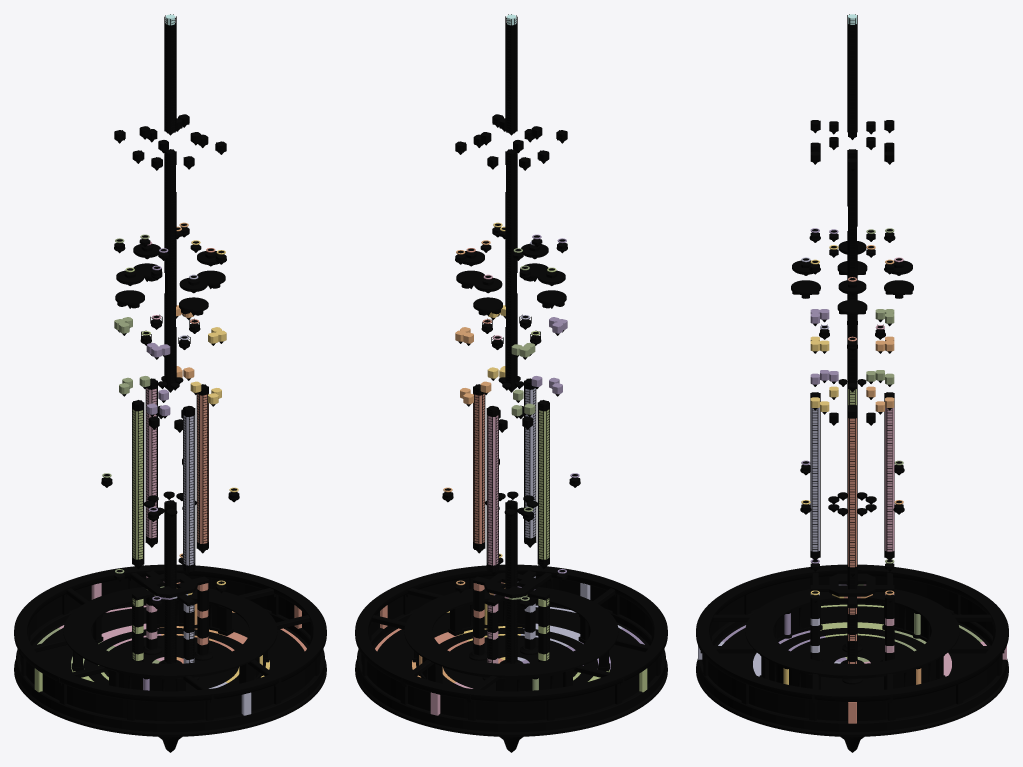
The model's file is TheLadder.glb.
3 views of the same model, side by side, from view 1: azimuth 30°, elevation 25°; view 2: azimuth 150°, elevation 25°; view 3: azimuth 270°, elevation 25° (orthographic).
Visible parts, largest first — view 1: TheLadder; view 2: TheLadder; view 3: TheLadder.
Boxes of the visible parts, box(x1,y1,x2,y2) form: TheLadder: box(14, 14, 326, 752); TheLadder: box(355, 14, 667, 752); TheLadder: box(696, 14, 1008, 752).
Bounding box in the file's own units: 33.6 × 87.3 × 33.6.
